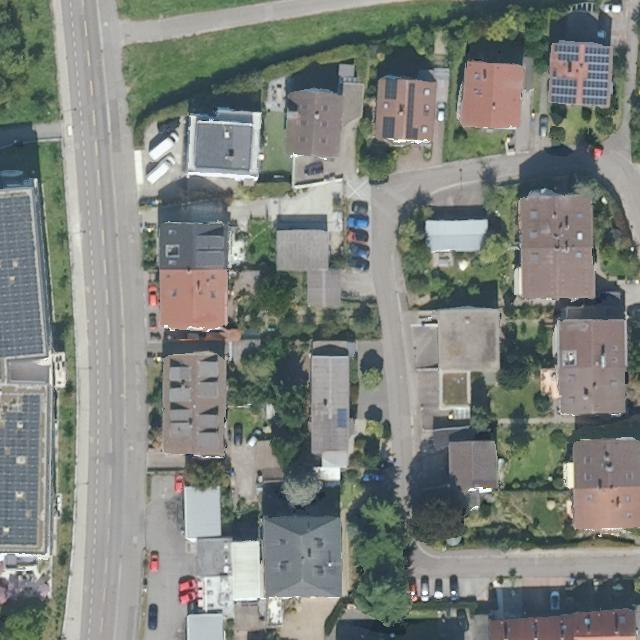PV: (1, 192, 47, 360), (0, 391, 42, 549), (579, 43, 612, 109), (547, 75, 581, 109), (403, 81, 421, 143), (551, 41, 583, 64), (377, 114, 398, 141), (383, 75, 399, 101)
